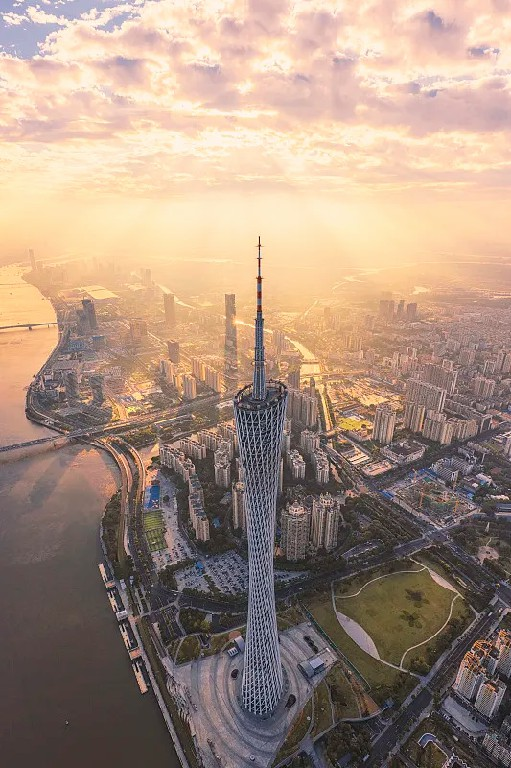Canton: (237, 235, 291, 718)
